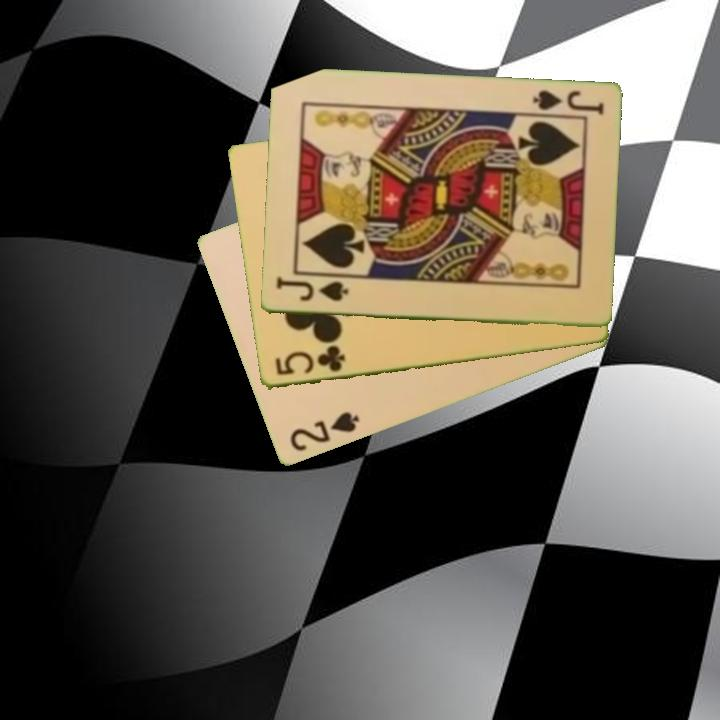2s: (286, 409, 362, 455)
5c: (271, 342, 348, 379)
Js: (529, 86, 606, 118), (273, 276, 351, 305)
